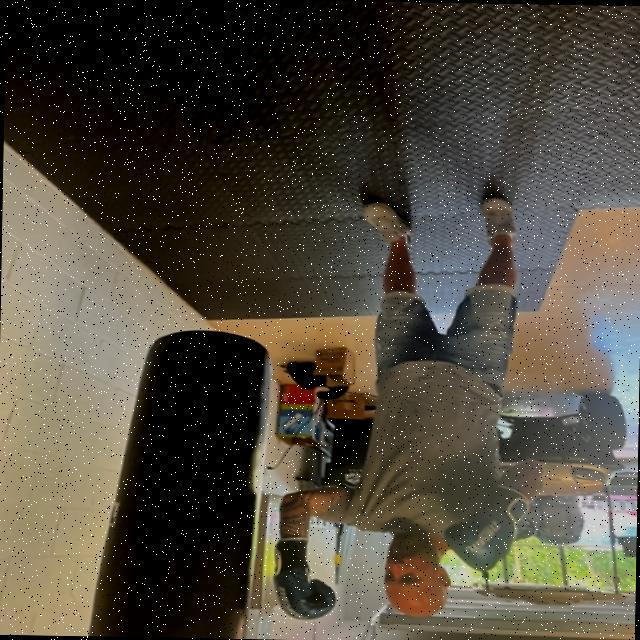punch: (238, 451, 540, 640)
